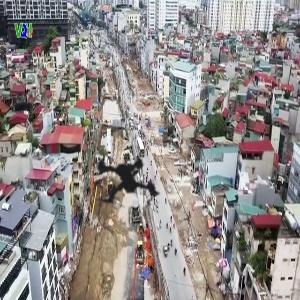drone: (30, 90, 222, 282)
